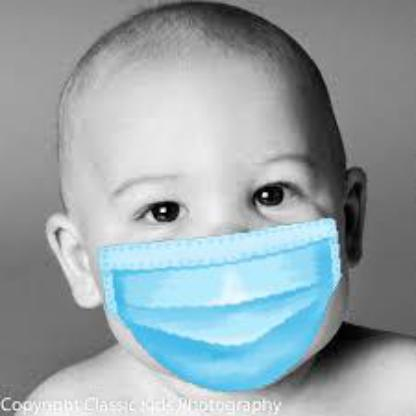Surgical Mask: (42, 19, 382, 392)
